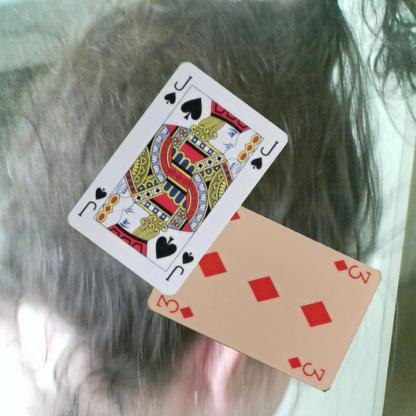3d: (330, 256, 372, 286), (153, 291, 195, 320)
Js: (162, 248, 196, 282), (161, 72, 194, 106)
